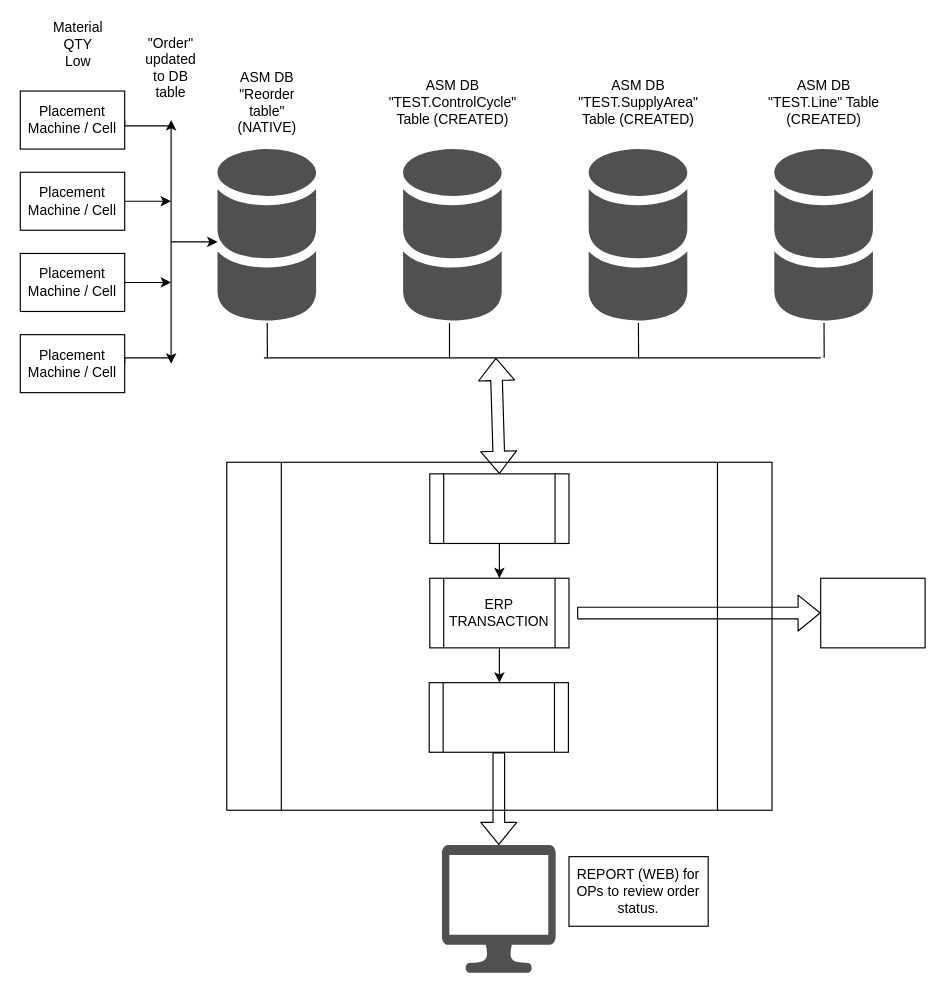
This 945x993 diagram has some shape labels left out. Here are the shapes that lost their labels. From the top down, the box of each, then its label:
(429, 473, 569, 543): SQL QUERY
(820, 577, 925, 648): PICK MATERIAL.
(428, 682, 568, 752): TRANSACTION LOG
